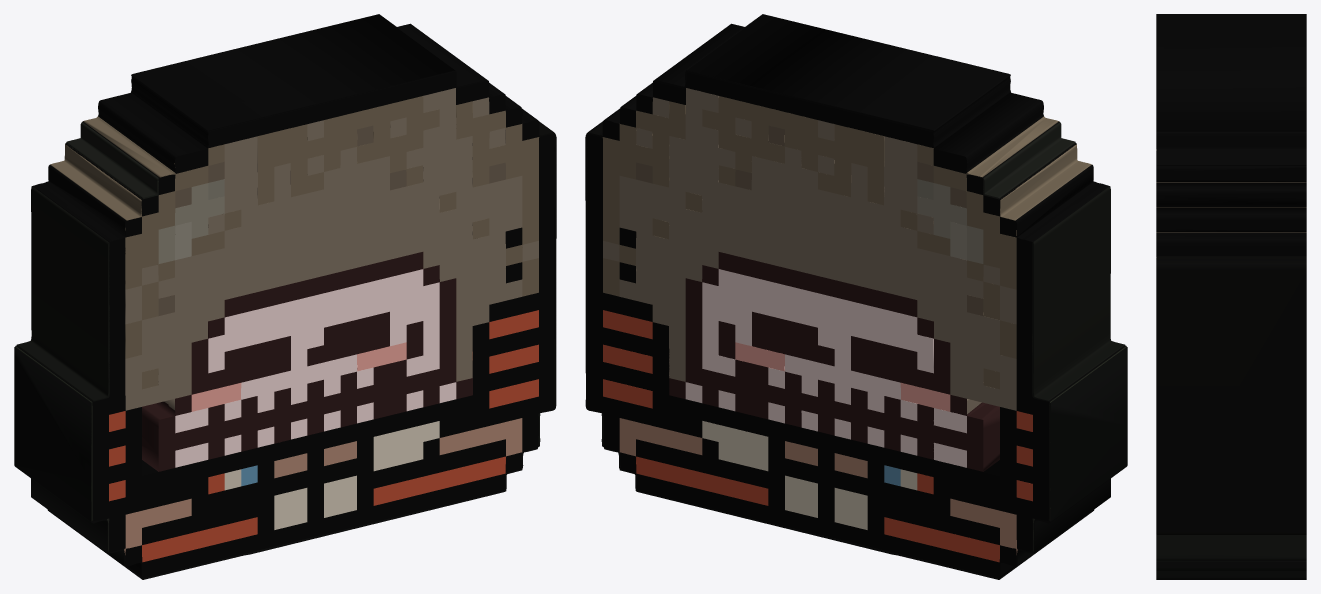
The model's file is Toadz_116.glb.
3 views of the same model, side by side, from view 1: azimuth 30°, elevation 25°; view 2: azimuth 150°, elevation 25°; view 3: azimuth 270°, elevation 25° (orthographic). The views are drawn at different scales.
Visible parts, largest first — view 1: Curve; view 2: Curve; view 3: Curve.
Boxes of the visible parts, bbox=[...] form: Curve: bbox=[14, 14, 556, 579]; Curve: bbox=[585, 14, 1127, 579]; Curve: bbox=[1156, 14, 1306, 579].
Size of the model in its own units: 3.5 by 3.12 by 1.
